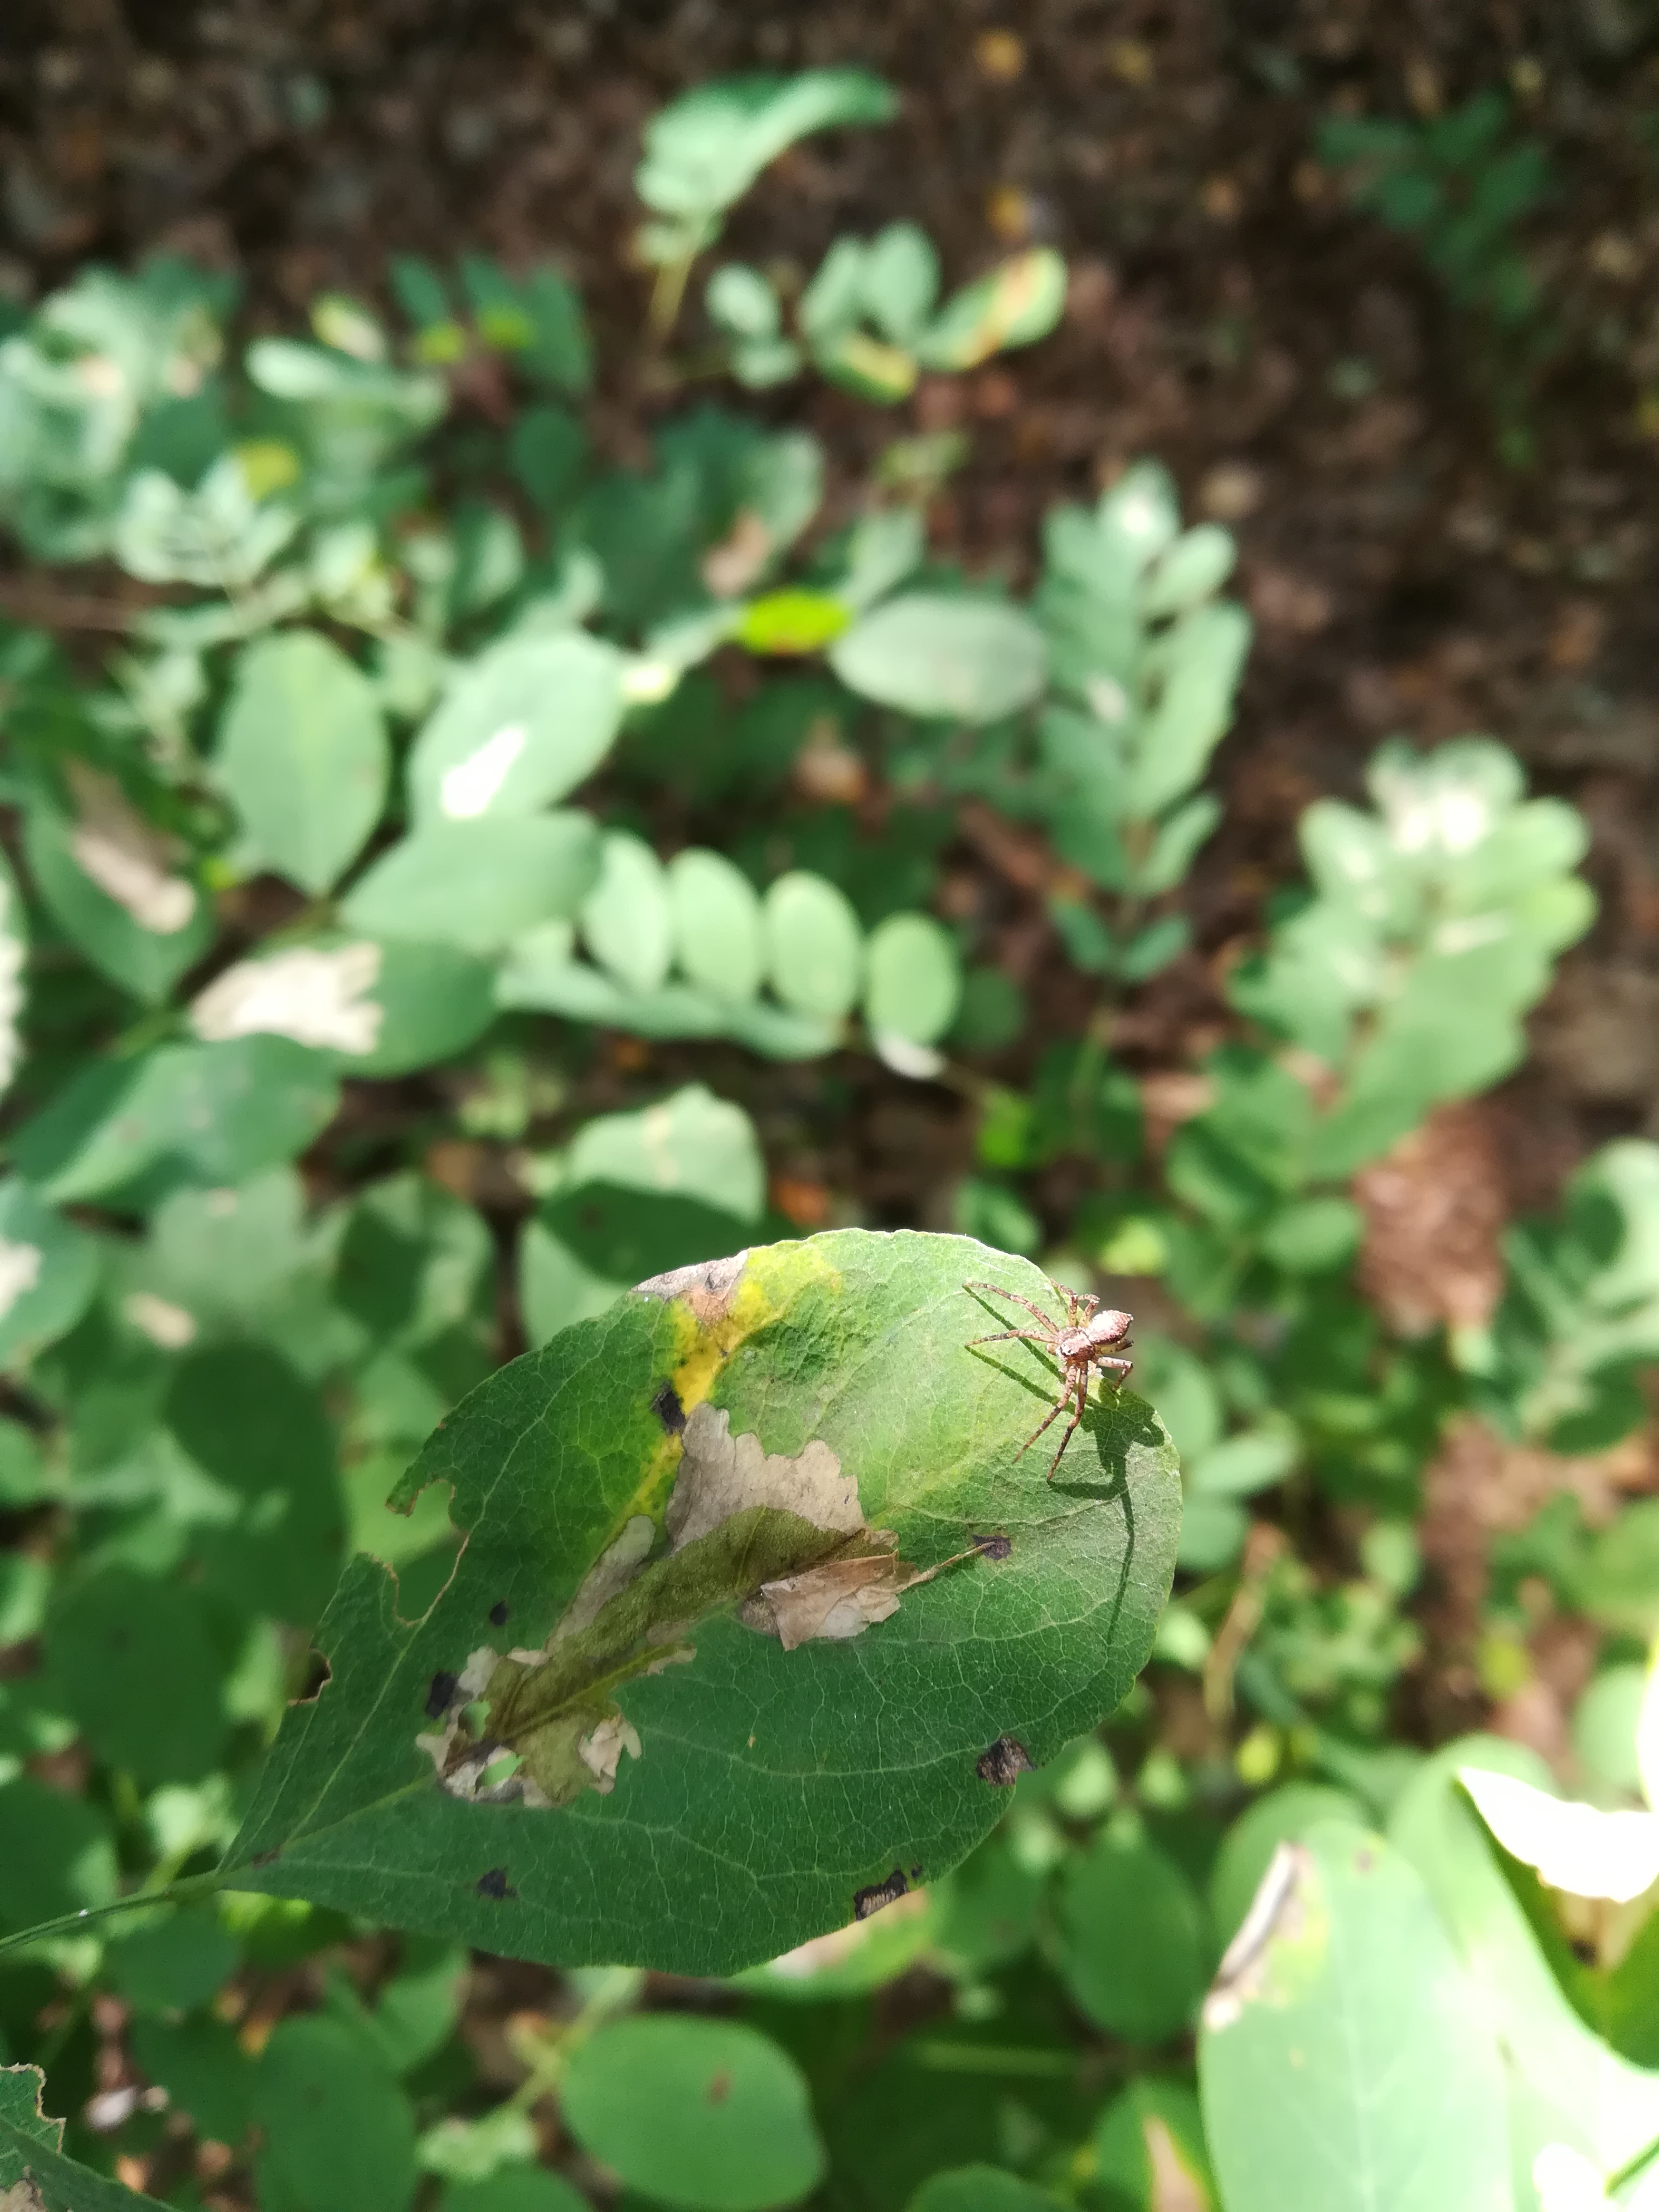spider: (943, 1240, 1175, 1486)
